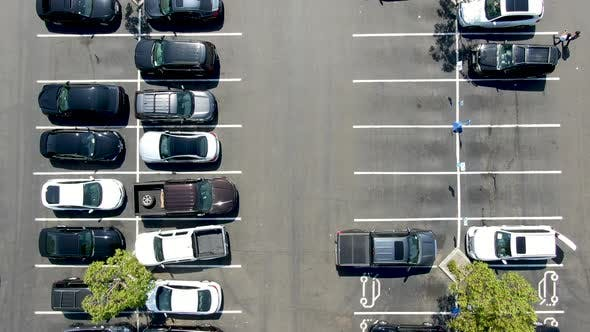car: (462, 220, 580, 269), (130, 176, 242, 222), (329, 228, 439, 272), (131, 224, 230, 268), (38, 127, 130, 172), (37, 79, 127, 124), (131, 85, 219, 129), (133, 37, 220, 80), (466, 39, 563, 77), (143, 276, 226, 320), (42, 175, 127, 217), (134, 129, 221, 168), (37, 225, 125, 263), (46, 277, 127, 315), (35, 1, 125, 31), (457, 1, 546, 30), (139, 1, 227, 29)
